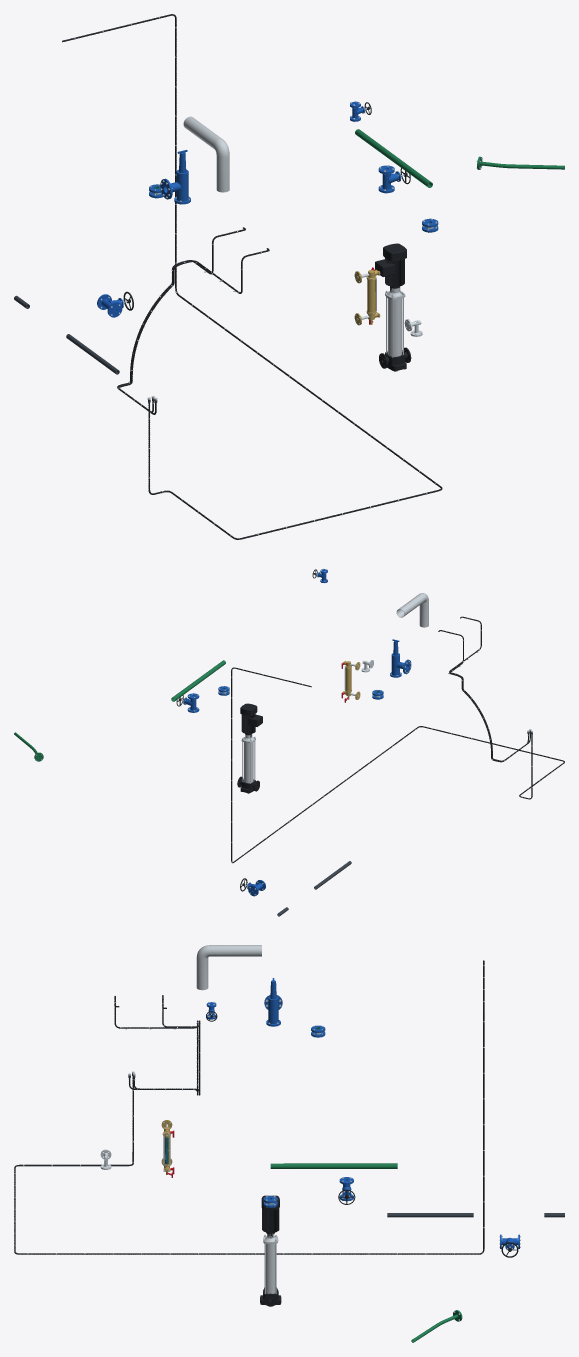
3 views of the same model, one above another, from view 1: azimuth 30°, elevation 25°; view 2: azimuth 150°, elevation 25°; view 3: azimuth 270°, elevation 25° (orthographic). The views are drawn at different scales.
Visible parts, largest first — view 1: mod_direct_drive_cable / black, steam_rise / steel, pump_1 CAD solid 15, safety_1 / blue, sight_glasses_2 / sight_glasses_2_0.npz, pump_1 CAD solid 2, wiring_low_level_1 / black, pump_delivery / green; view 2: mod_direct_drive_cable / black, steam_rise / steel, pump_1 CAD solid 15; view 3: mod_direct_drive_cable / black, steam_rise / steel, pump_delivery / green, safety_1 / blue, pump_1 CAD solid 15, sight_glasses_2 / sight_glasses_2_0.npz, pump_1 CAD solid 2.
Boxes of the visible parts, bbox=[...] form: mod_direct_drive_cable / black: bbox=[62, 14, 442, 539]; steam_rise / steel: bbox=[183, 116, 229, 192]; pump_1 CAD solid 15: bbox=[375, 243, 406, 287]; safety_1 / blue: bbox=[160, 150, 190, 204]; sight_glasses_2 / sight_glasses_2_0.npz: bbox=[354, 267, 380, 325]; pump_1 CAD solid 2: bbox=[388, 298, 401, 356]; wiring_low_level_1 / black: bbox=[118, 248, 269, 414]; pump_delivery / green: bbox=[355, 129, 432, 187]; mod_direct_drive_cable / black: bbox=[231, 667, 564, 862]; steam_rise / steel: bbox=[396, 593, 428, 627]; pump_1 CAD solid 15: bbox=[240, 703, 262, 734]; mod_direct_drive_cable / black: bbox=[14, 960, 484, 1254]; steam_rise / steel: bbox=[196, 945, 261, 990]; pump_delivery / green: bbox=[270, 1163, 397, 1168]; safety_1 / blue: bbox=[264, 978, 282, 1026]; pump_1 CAD solid 15: bbox=[261, 1195, 279, 1233]; sight_glasses_2 / sight_glasses_2_0.npz: bbox=[161, 1120, 174, 1177]; pump_1 CAD solid 2: bbox=[266, 1244, 275, 1293].
Bounding box in the file's own units: 5.75 × 3.03 × 5.43.
